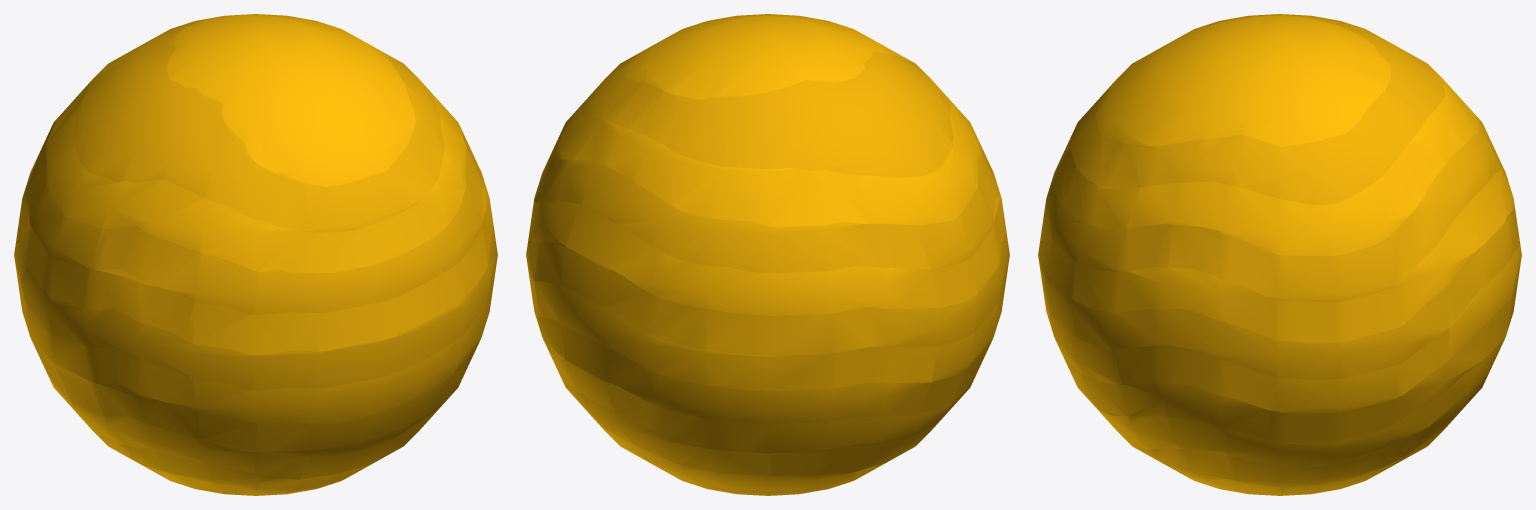
Rendered from Stripes - orange.fbx.
3 renders of one model, left to right at view 1: azimuth 30°, elevation 25°; view 2: azimuth 150°, elevation 25°; view 3: azimuth 270°, elevation 25°, orthographic.
Parts seen in each view (by area): view 1: SketchUp.001; view 2: SketchUp.001; view 3: SketchUp.001.
Boxes of the visible parts, left/top/right/bottom form: SketchUp.001: left=14, top=14, right=497, bottom=495; SketchUp.001: left=526, top=14, right=1009, bottom=495; SketchUp.001: left=1038, top=14, right=1521, bottom=495.
Size of the model in its own units: 100 by 100 by 100.
